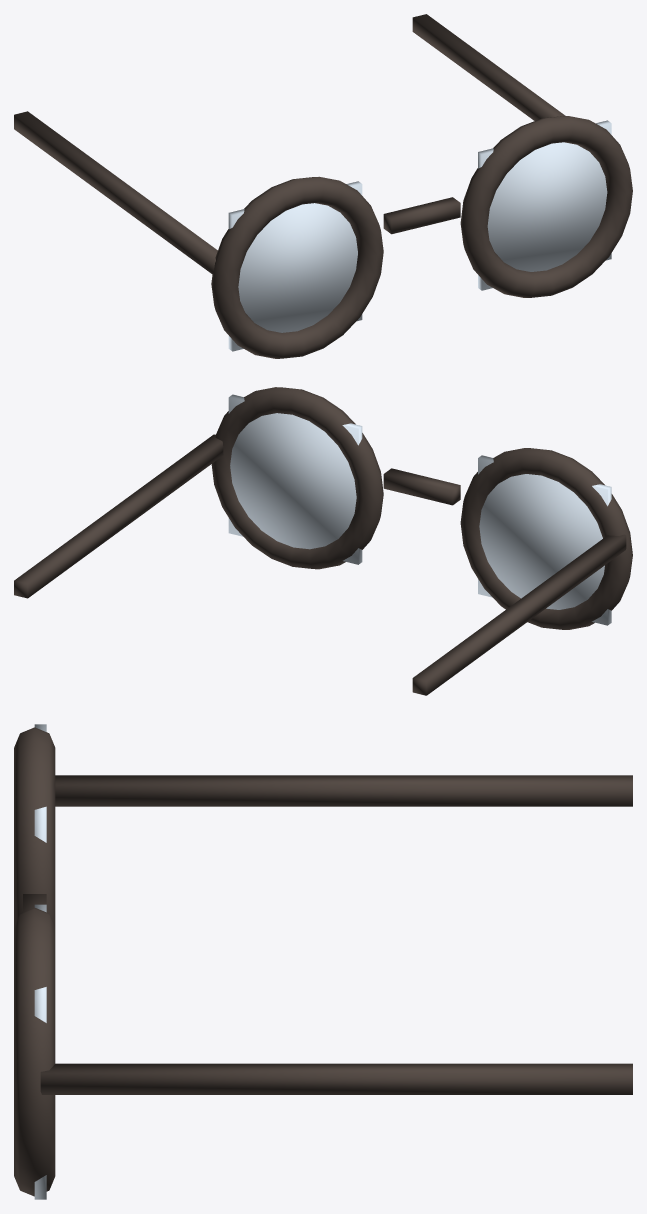
The model's file is acc_glasses.glb.
The picture shows the model from 3 angles, top to bottom: view 1: azimuth 30°, elevation 25°; view 2: azimuth 150°, elevation 25°; view 3: azimuth 270°, elevation 25°; orthographic projection. The views are drawn at different scales.
Visible parts, largest first — view 1: Glasses_RimR, Glasses_RimL, Glasses_LensL, Glasses_LensR, Glasses_TempleL, Glasses_TempleR, Glasses_Bridge; view 2: Glasses_LensR, Glasses_LensL, Glasses_RimR, Glasses_RimL, Glasses_TempleL, Glasses_TempleR, Glasses_Bridge; view 3: Glasses_TempleR, Glasses_TempleL, Glasses_RimR, Glasses_RimL, Glasses_LensR.
Part boxes in pixels (left/top/right/bottom): Glasses_RimR: left=460, top=116, right=632, bottom=297; Glasses_RimL: left=211, top=176, right=383, bottom=358; Glasses_LensL: left=228, top=181, right=362, bottom=351; Glasses_LensR: left=478, top=120, right=611, bottom=290; Glasses_TempleL: left=14, top=111, right=217, bottom=274; Glasses_TempleR: left=412, top=14, right=565, bottom=120; Glasses_Bridge: left=383, top=197, right=460, bottom=234; Glasses_LensR: left=228, top=394, right=362, bottom=564; Glasses_LensL: left=478, top=455, right=611, bottom=625; Glasses_RimR: left=211, top=387, right=383, bottom=569; Glasses_RimL: left=460, top=448, right=632, bottom=629; Glasses_TempleL: left=412, top=534, right=626, bottom=695; Glasses_TempleR: left=14, top=434, right=223, bottom=598; Glasses_Bridge: left=383, top=468, right=460, bottom=505; Glasses_TempleR: left=40, top=1063, right=632, bottom=1094; Glasses_TempleL: left=55, top=775, right=632, bottom=806; Glasses_RimR: left=14, top=907, right=55, bottom=1196; Glasses_RimL: left=14, top=727, right=55, bottom=927; Glasses_LensR: left=34, top=904, right=46, bottom=1199.
Bounding box in the file's own units: 0.242 × 0.098 × 0.209.
